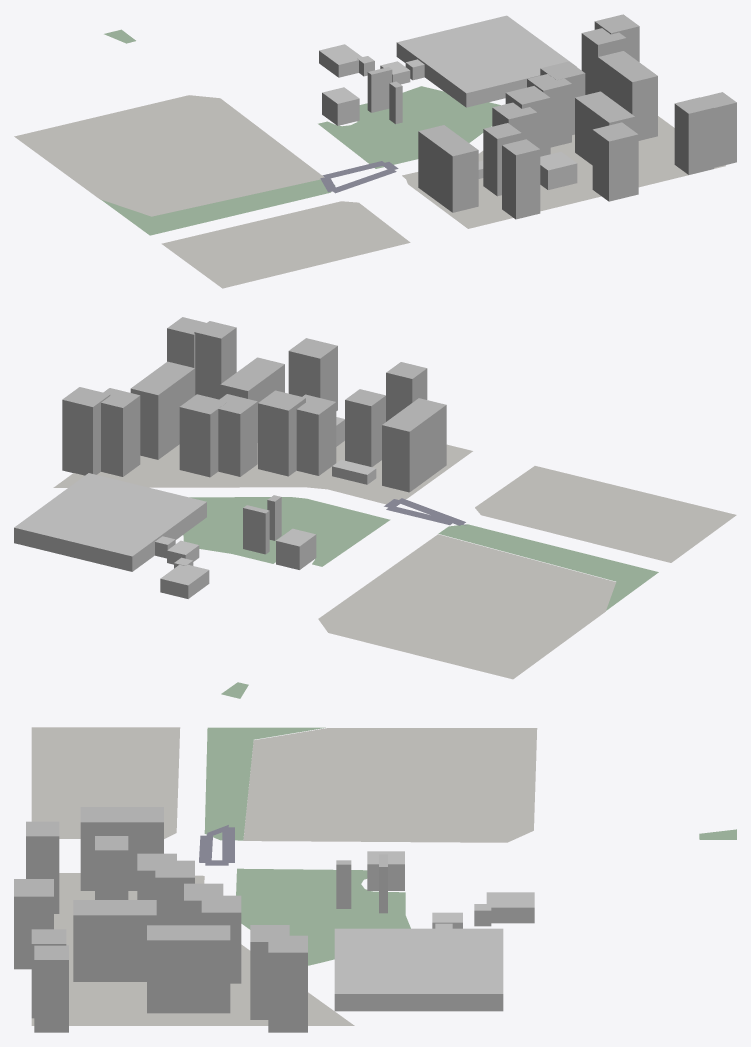
File: 102_105_mid.glb
3 renders of one model, top to bottom at view 1: azimuth 30°, elevation 25°; view 2: azimuth 150°, elevation 25°; view 3: azimuth 270°, elevation 25°, orthographic. The views are drawn at different scales.
Size of the model in its own units: 511 by 62.51 by 512.
